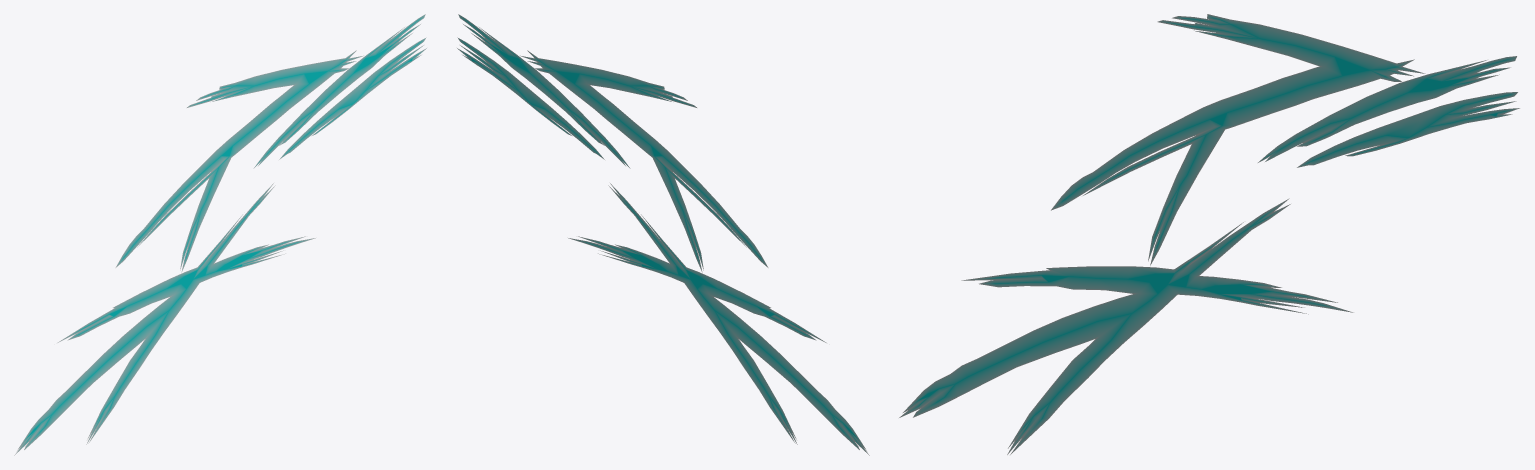
File: SM_EFF_Text_MultipleSnake_01.glb
3 views of the same model, side by side, from view 1: azimuth 30°, elevation 25°; view 2: azimuth 150°, elevation 25°; view 3: azimuth 330°, elevation 25° (orthographic). The views are drawn at different scales.
Parts seen in each view (by area): view 1: SM_EFF_Text_MultipleSnake_01; view 2: SM_EFF_Text_MultipleSnake_01; view 3: SM_EFF_Text_MultipleSnake_01.
Boxes of the visible parts, x1,y1,x2,y2 form: SM_EFF_Text_MultipleSnake_01: (14,14,426,455); SM_EFF_Text_MultipleSnake_01: (457,14,869,455); SM_EFF_Text_MultipleSnake_01: (899,14,1519,454).
Size of the model in its own units: 0.9129 by 0.7353 by 4.5e-17.
